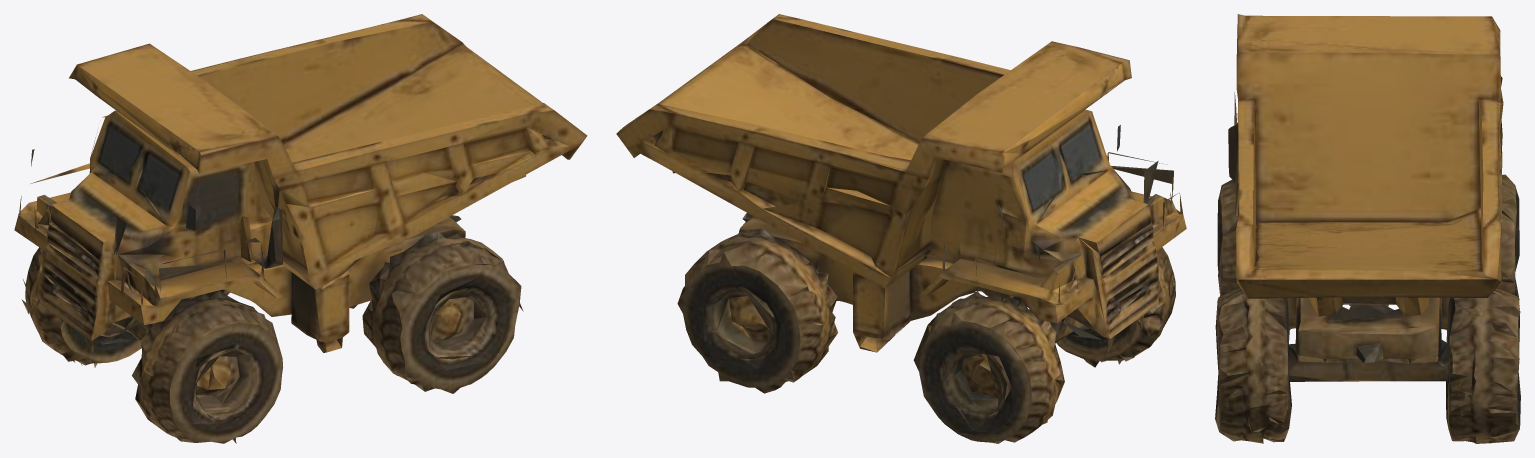
File: mining_haul_truck.glb
The picture shows the model from 3 angles, left to right: view 1: azimuth 30°, elevation 25°; view 2: azimuth 150°, elevation 25°; view 3: azimuth 270°, elevation 25°; orthographic projection.
Visible parts, largest first — view 1: turn; view 2: turn; view 3: turn.
Boxes of the visible parts, x1,y1,x2,y2 form: turn: (14,14,587,443); turn: (616,14,1186,443); turn: (1215,14,1520,443).
Size of the model in its own units: 11.93 by 7.4 by 6.86.
1 material, 1 textured.
